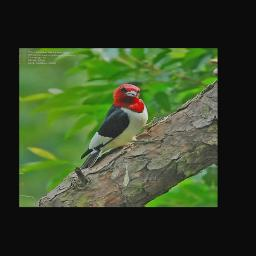Woodpecker: (76, 82, 162, 170)
